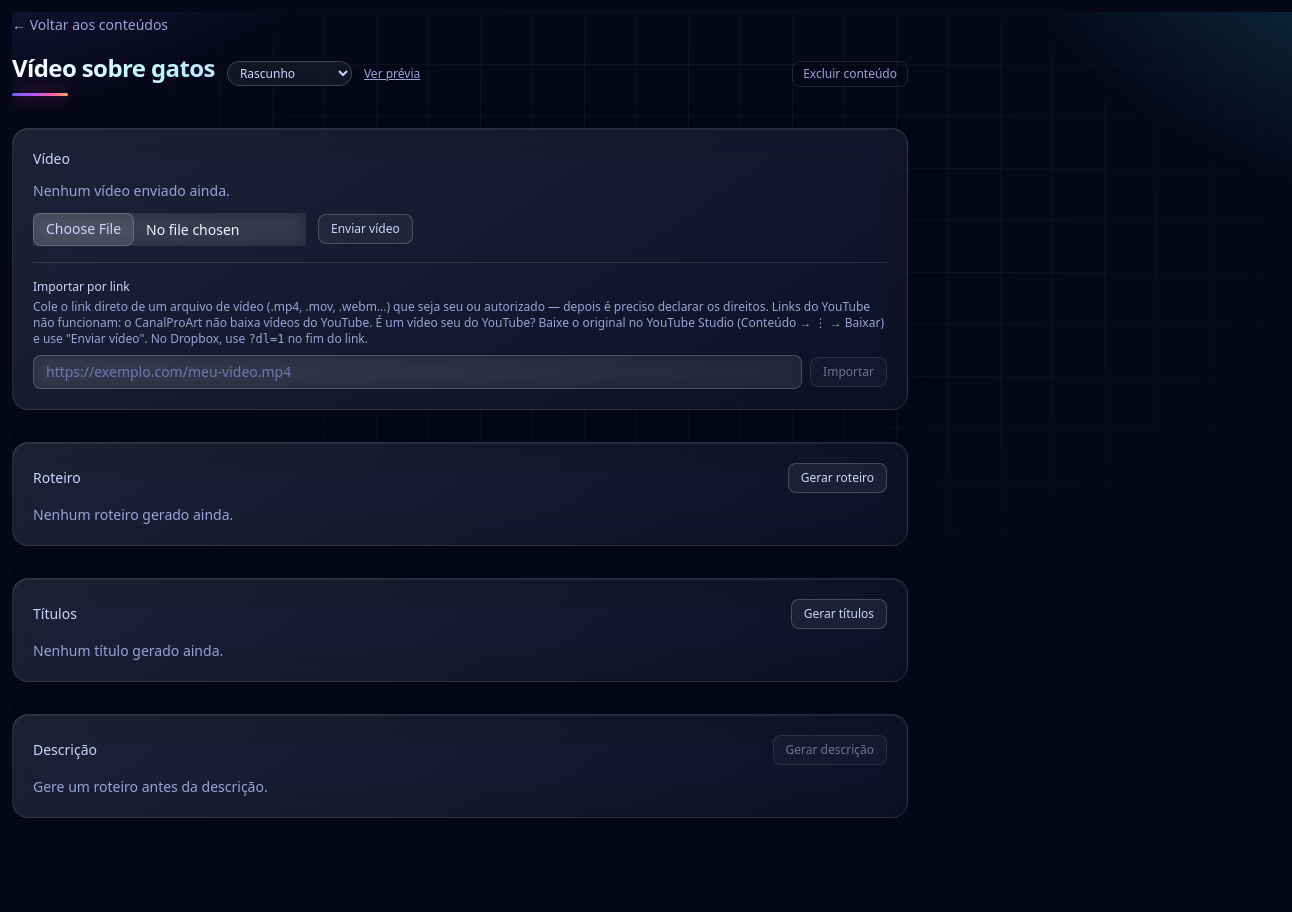
Test: ContentProjectDetailPage › excluir conteúdo › mostra o motivo e não sai da página quando o servidor recusa
The width and height of the screenshot is (1292, 912).
Click the button "Excluir conteúdo": (850, 74) [792, 61, 908, 87]
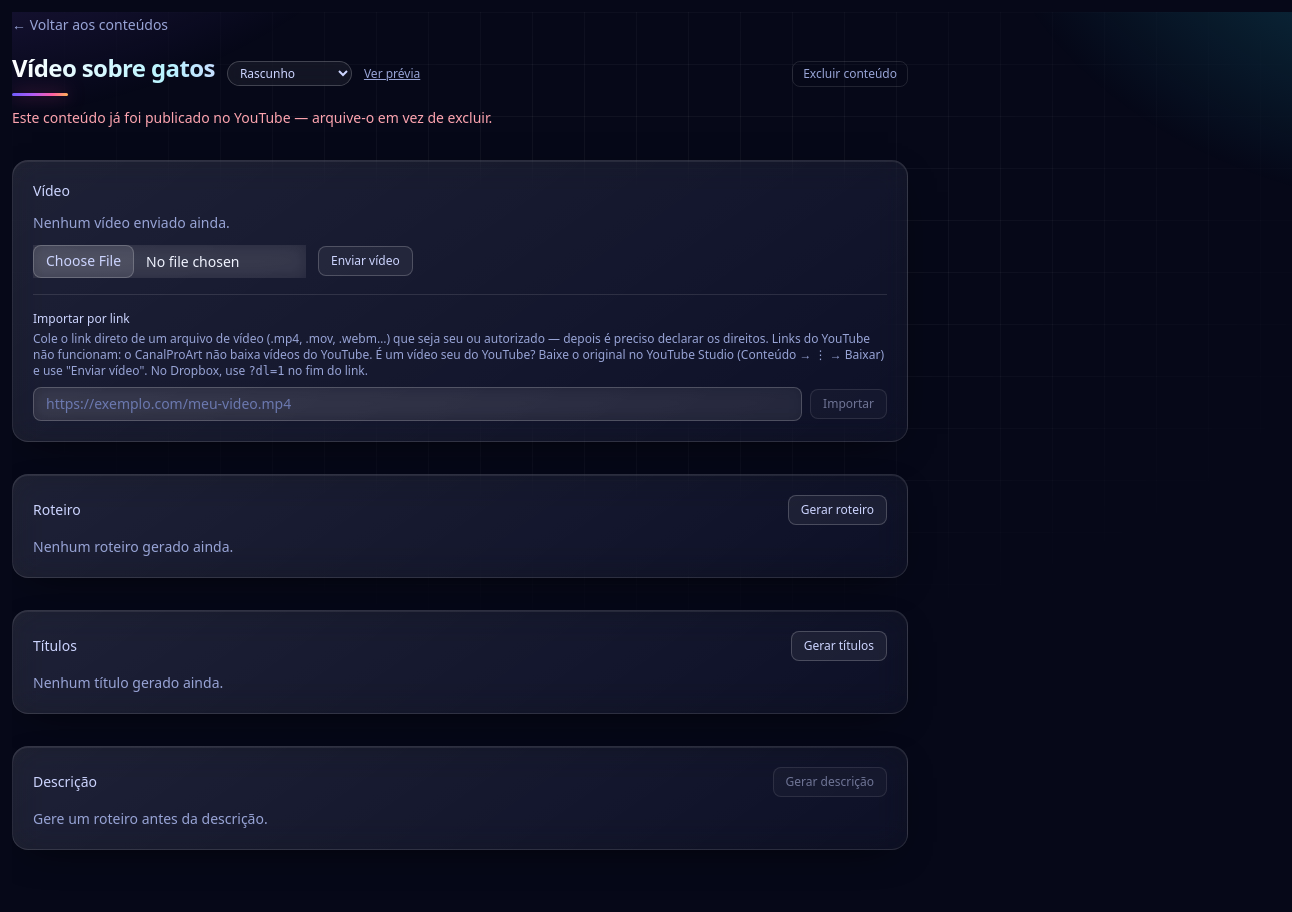
Expected: the heading "Vídeo sobre gatos" is shown, [12, 52, 215, 96]
Now the text "arquive-o em vez de excluir" is shown, box [12, 108, 492, 127]
